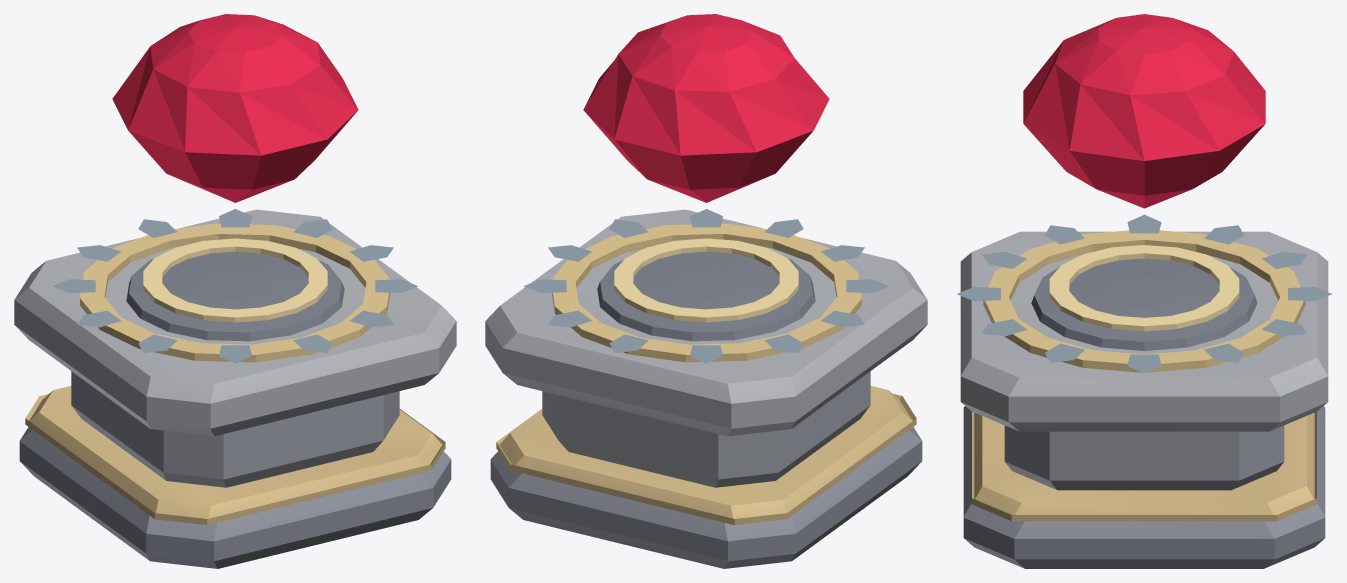
Rendered from ruby_pedestal_floatingmaster.glb.
The picture shows the model from 3 angles, left to right: view 1: azimuth 30°, elevation 25°; view 2: azimuth 150°, elevation 25°; view 3: azimuth 270°, elevation 25°; orthographic projection. The views are drawn at different scales.
Visible parts, largest first — view 1: Stone_Upper_Crown, RubyCrystal, Stone_Base, Gold_Base_Trim, Stone_Shaft, Rune_Core, Gold_Accent_Ring, Golden_Hover_Ring, Rune_Glyphs; view 2: Stone_Upper_Crown, RubyCrystal, Stone_Base, Gold_Base_Trim, Stone_Shaft, Rune_Core, Gold_Accent_Ring, Golden_Hover_Ring, Rune_Glyphs; view 3: Stone_Upper_Crown, RubyCrystal, Stone_Base, Gold_Base_Trim, Stone_Shaft, Rune_Core, Gold_Accent_Ring, Golden_Hover_Ring, Rune_Glyphs.
Part boxes in pixels (x1,y1,x2,y2): Stone_Upper_Crown: (14,209,456,436); RubyCrystal: (112,14,358,202); Stone_Base: (19,427,451,568); Gold_Base_Trim: (25,386,445,525); Stone_Shaft: (71,371,399,487); Rune_Core: (126,251,344,341); Gold_Accent_Ring: (80,223,390,362); Golden_Hover_Ring: (143,238,327,322); Rune_Glyphs: (53,209,417,363); Stone_Upper_Crown: (485,209,927,436); RubyCrystal: (583,14,829,202); Stone_Base: (490,427,922,568); Gold_Base_Trim: (496,386,916,525); Stone_Shaft: (542,371,870,487); Rune_Core: (597,251,815,341); Gold_Accent_Ring: (551,223,861,362); Golden_Hover_Ring: (614,238,798,322); Rune_Glyphs: (524,209,888,363); Stone_Upper_Crown: (960,231,1328,431); RubyCrystal: (1023,14,1265,208); Stone_Base: (963,406,1325,568); Gold_Base_Trim: (972,411,1316,521); Stone_Shaft: (1004,425,1284,490); Rune_Core: (1031,258,1257,350); Gold_Accent_Ring: (983,230,1305,372); Golden_Hover_Ring: (1049,245,1239,331); Rune_Glyphs: (957,214,1331,373).
Size of the model in its own units: 1.33 by 1.83 by 1.33.
